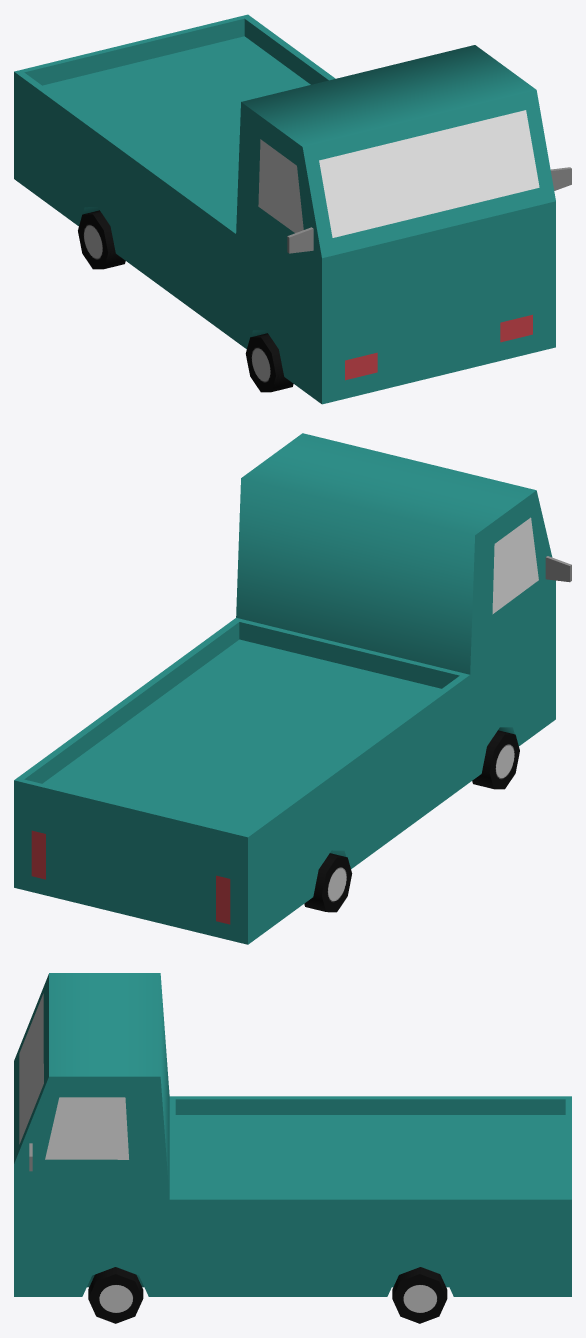
The model's file is Truck_1.FBX.
3 renders of one model, top to bottom at view 1: azimuth 30°, elevation 25°; view 2: azimuth 150°, elevation 25°; view 3: azimuth 270°, elevation 25°, orthographic. The views are drawn at different scales.
Visible parts, largest first — view 1: Truck 01; view 2: Truck 01; view 3: Truck 01.
Boxes of the visible parts, x1,y1,x2,y2 form: Truck 01: (14,14,571,404); Truck 01: (14,433,571,944); Truck 01: (14,973,571,1323).
Bounding box in the file's own units: 2.4 × 2.2 × 4.53.
1 material, 1 textured.
